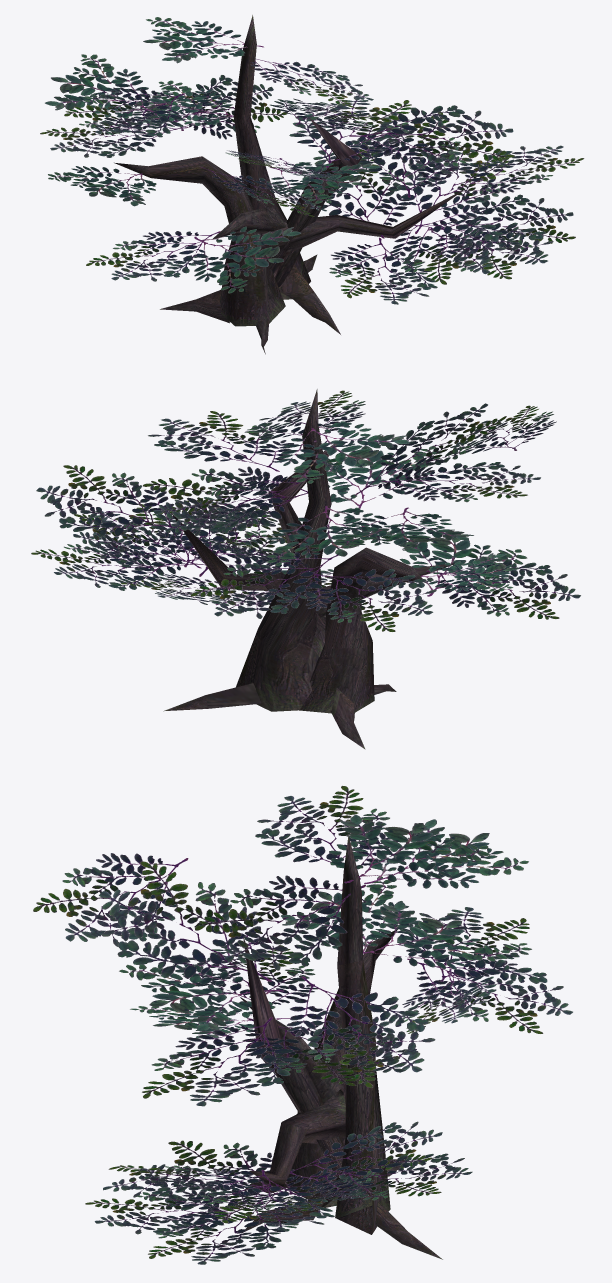
The model's file is DZMG_YHY__Shu02.FBX.
3 views of the same model, one above another, from view 1: azimuth 30°, elevation 25°; view 2: azimuth 150°, elevation 25°; view 3: azimuth 270°, elevation 25° (orthographic). The views are drawn at different scales.
Visible parts, largest first — view 1: RSHP_ShuLin_ShuYe02, DZMG_YHY_Shu02; view 2: RSHP_ShuLin_ShuYe02, DZMG_YHY_Shu02; view 3: RSHP_ShuLin_ShuYe02, DZMG_YHY_Shu02.
Part boxes in pixels (box(x1,y1,x2,y2)): RSHP_ShuLin_ShuYe02: box(40, 17, 584, 304); DZMG_YHY_Shu02: box(114, 15, 464, 354); RSHP_ShuLin_ShuYe02: box(31, 390, 580, 631); DZMG_YHY_Shu02: box(163, 389, 454, 749); RSHP_ShuLin_ShuYe02: box(33, 785, 572, 1264); DZMG_YHY_Shu02: box(239, 835, 442, 1259).
Size of the model in its own units: 69414 by 41289 by 58341.
